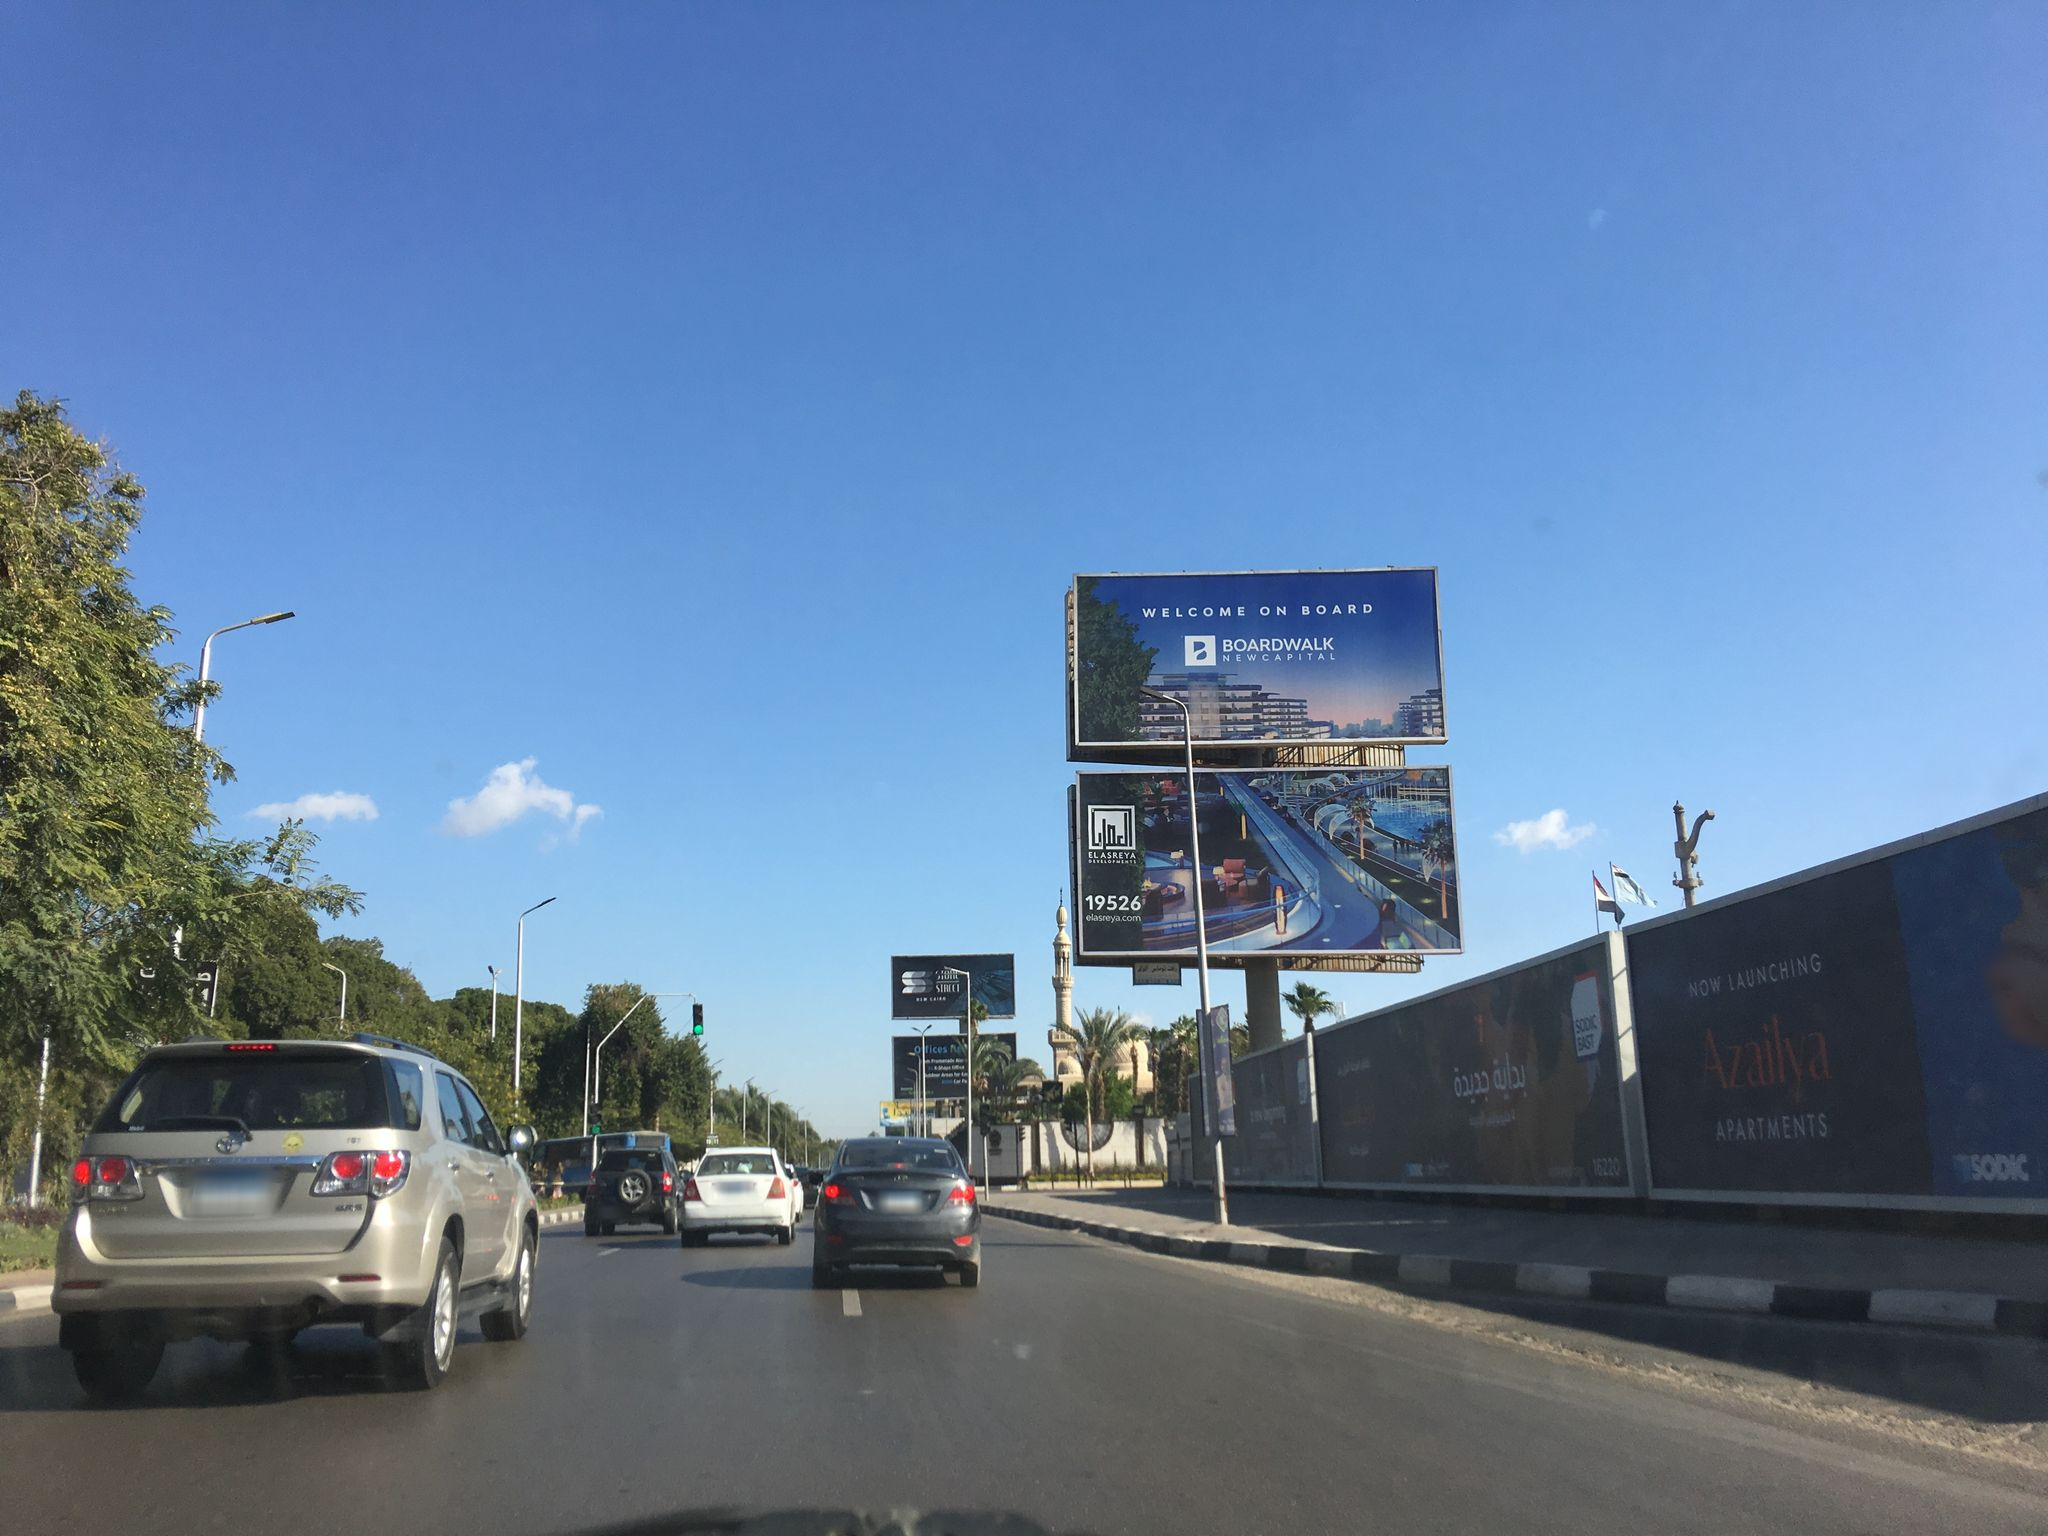bus: (531, 1128, 671, 1204)
car: (47, 1028, 548, 1386), (803, 1136, 985, 1288), (677, 1146, 795, 1249), (581, 1146, 682, 1233)
